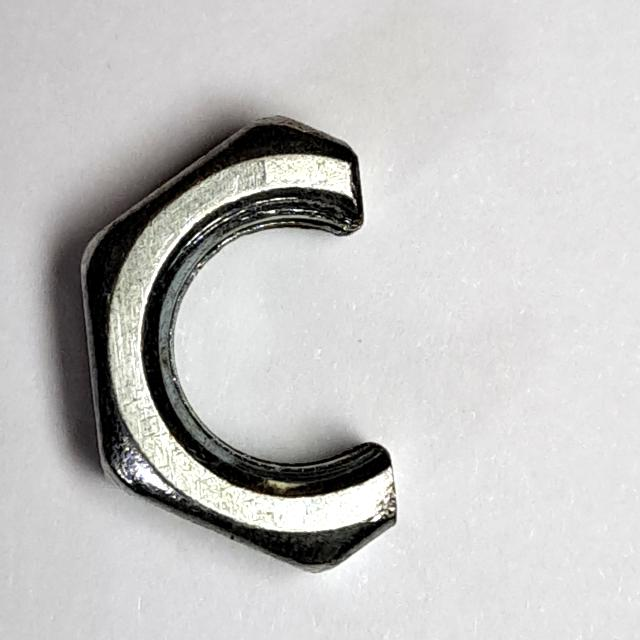Fracture: (68, 102, 427, 590)
